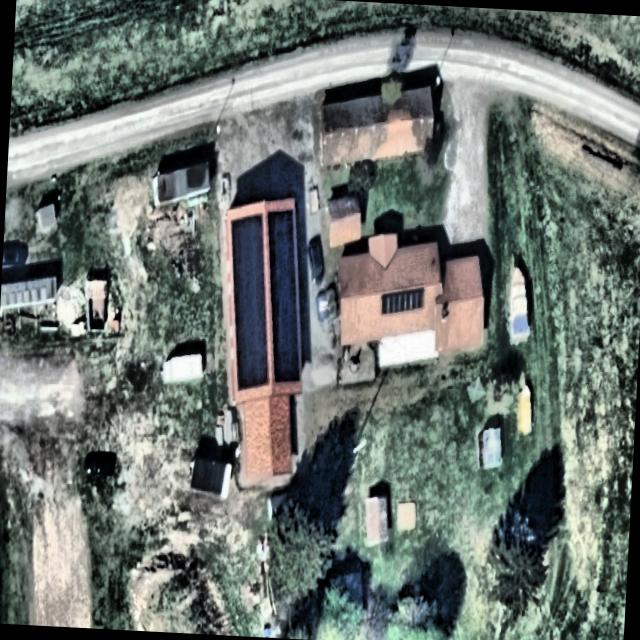roof_pv: (220, 210, 278, 394), (258, 208, 310, 384)
